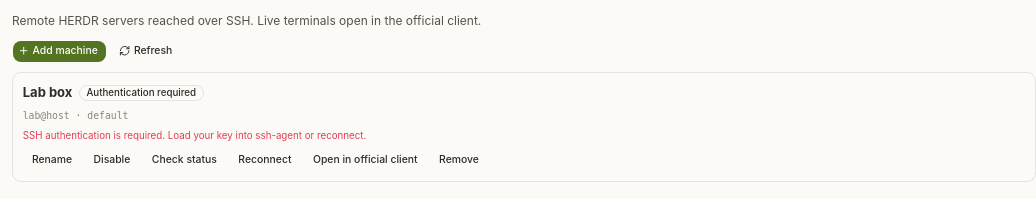
it: MachinesPanel actions › does not let a stale error override a newer successful status check
The width and height of the screenshot is (1036, 199).
Expected: the text "Lab box" is shown, [23,83,72,102]
Expected: the text "Authentication required" is shown, [79,85,204,101]
What coordinates should you click on to do the following:
click the button "Check status"
I would click on:
 (184, 159)
Its box is [143,148,226,171].
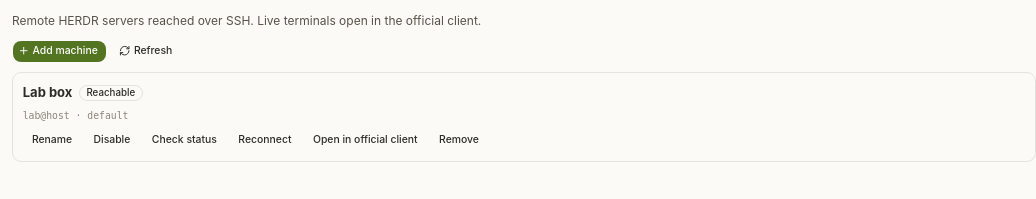
Result: the text "Reachable" is shown at [79,85,143,101]
